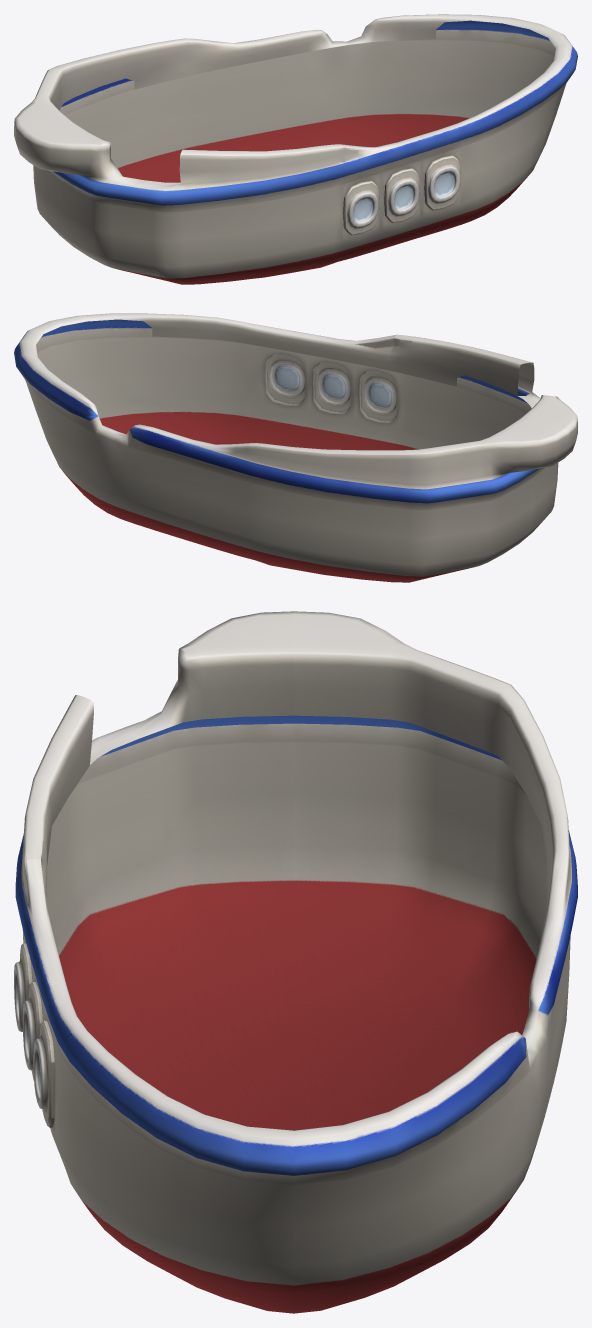
Rendered from ship_outterwall.fbx.
3 views of the same model, one above another, from view 1: azimuth 30°, elevation 25°; view 2: azimuth 150°, elevation 25°; view 3: azimuth 270°, elevation 25° (orthographic). The views are drawn at different scales.
Visible parts, largest first — view 1: ship_outterwall; view 2: ship_outterwall; view 3: ship_outterwall.
Boxes of the visible parts, box(x1,y1,x2,y2) form: ship_outterwall: box(14, 14, 577, 284); ship_outterwall: box(14, 313, 577, 582); ship_outterwall: box(14, 611, 577, 1313).
Size of the model in its own units: 120 by 35.87 by 59.31.
